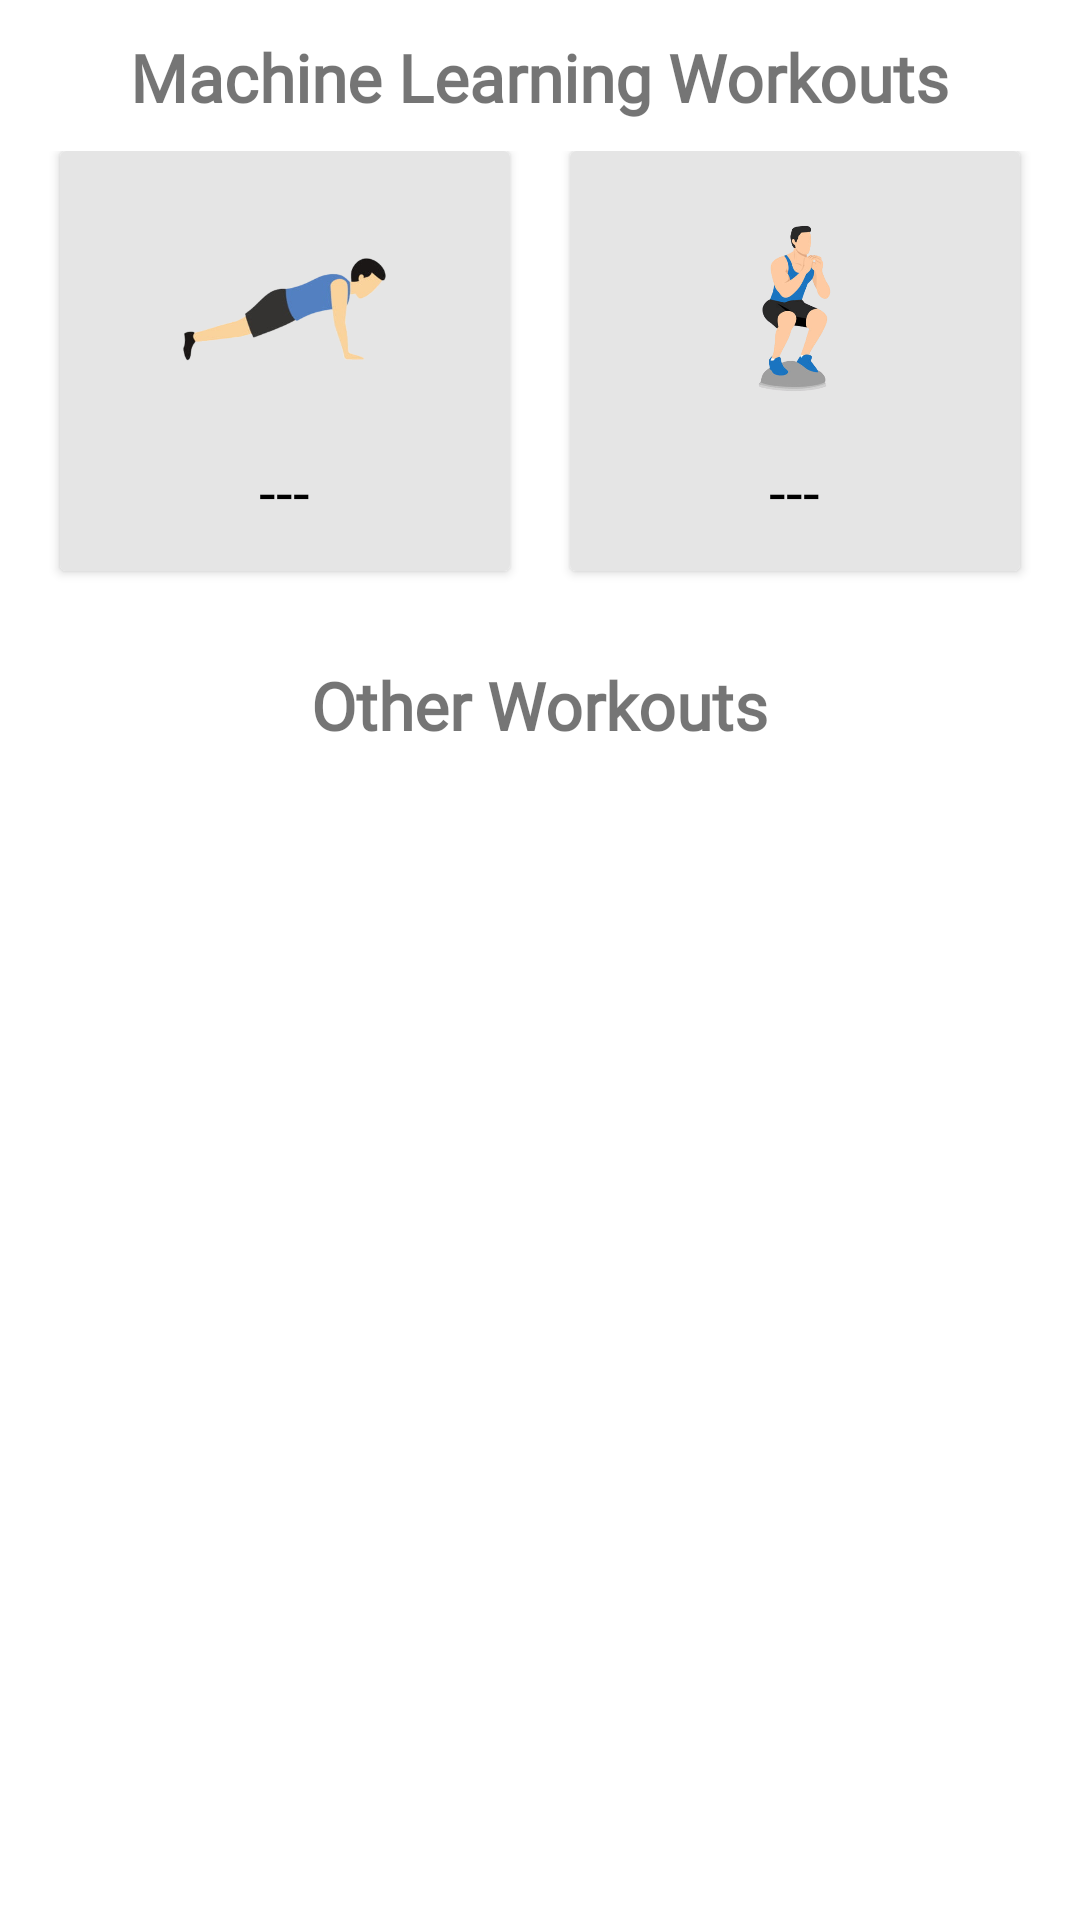

Locate icon controls on the screen. Image size 1080px×1920px, boxes as (x1, y1, x2, y2).
pushups: (183, 258, 386, 360)
squat: (759, 226, 830, 389)
